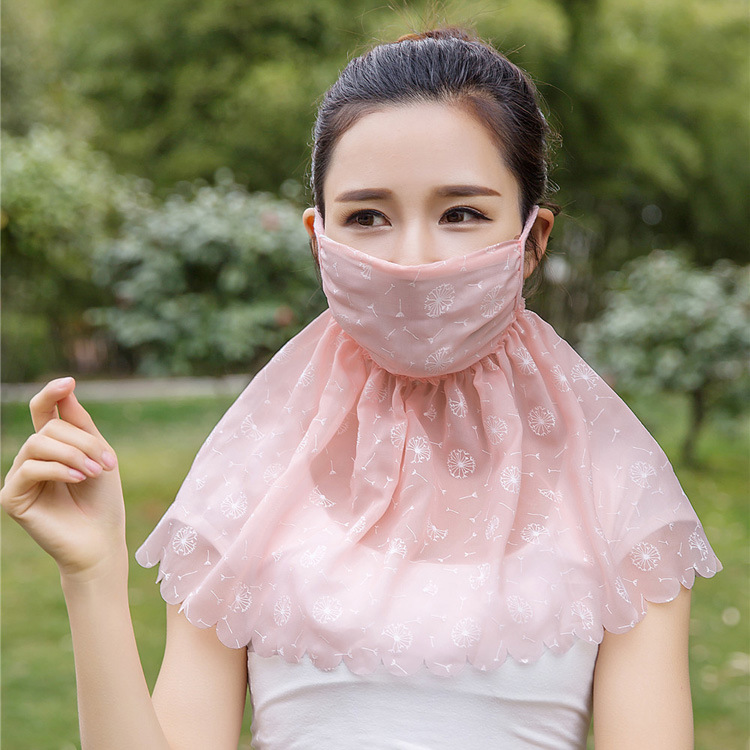face_mask: (318, 98, 521, 370)
